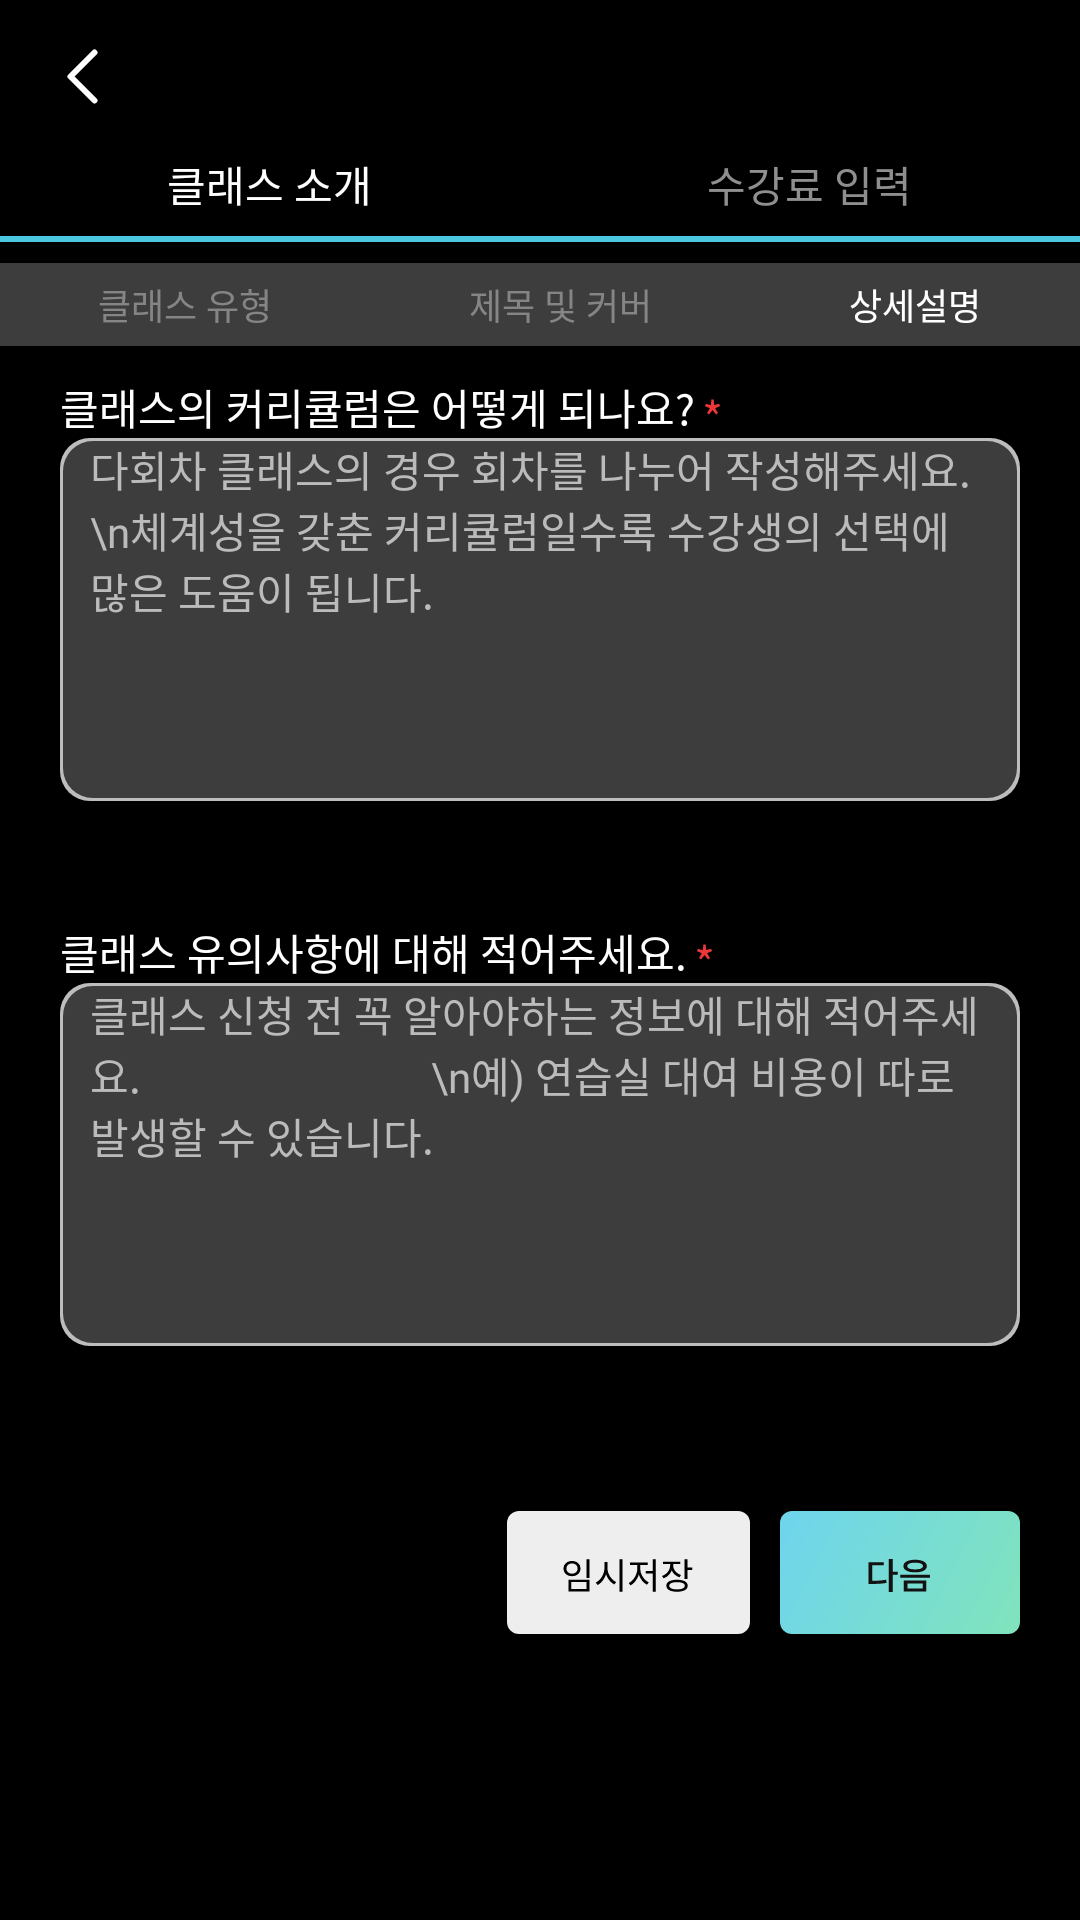

Icon bounding boxes for this 1080 × 1920 phone screenshot, format (x1, y1, x2, y2):
back key: (67, 49, 98, 104)
